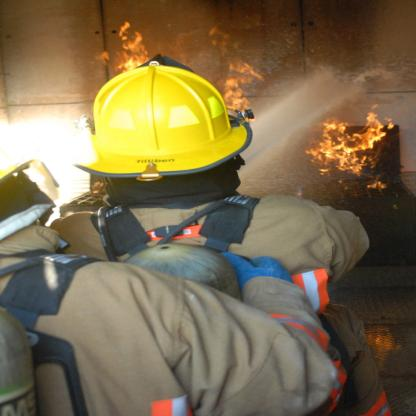Helmet: (74, 50, 252, 206), (0, 153, 61, 242)
